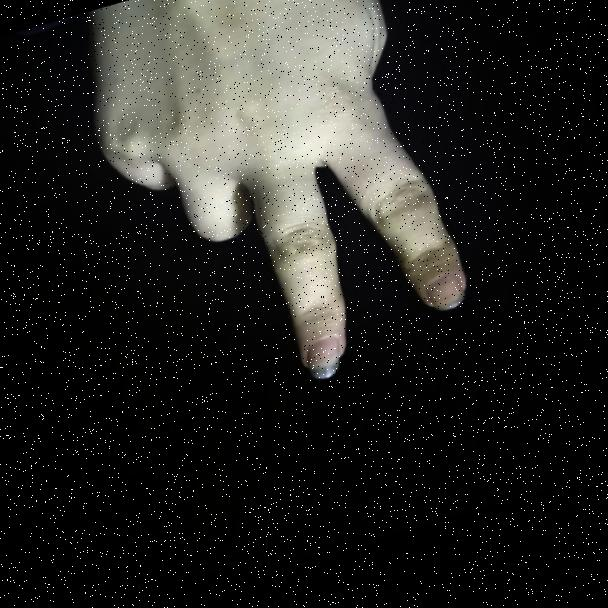two: (68, 0, 488, 455)
